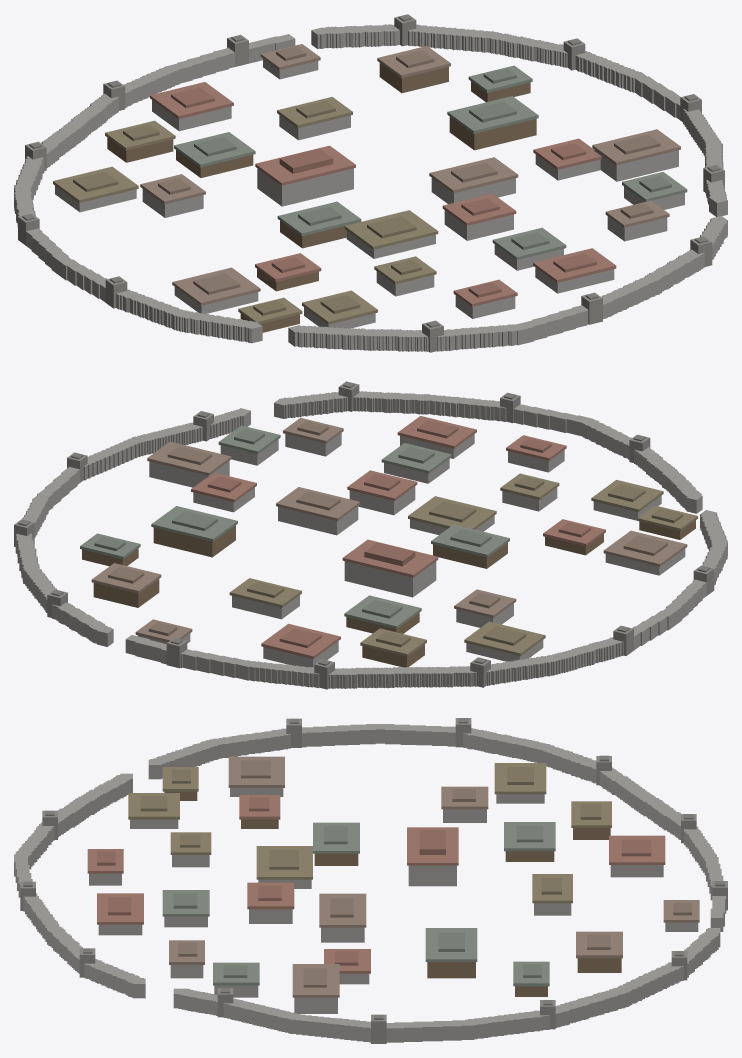
The model's file is ciudad_capital_regional_1409_1614_01.glb.
3 views of the same model, one above another, from view 1: azimuth 30°, elevation 25°; view 2: azimuth 150°, elevation 25°; view 3: azimuth 270°, elevation 25° (orthographic). The views are drawn at different scales.
Visible parts, largest first — view 1: ciudad_capital_regional_1409_1614; view 2: ciudad_capital_regional_1409_1614; view 3: ciudad_capital_regional_1409_1614.
Part boxes in pixels (x1,y1,x2,y2): ciudad_capital_regional_1409_1614: (14,14,727,352); ciudad_capital_regional_1409_1614: (14,381,727,689); ciudad_capital_regional_1409_1614: (14,718,727,1043).
Bounding box in the file's own units: 116 × 5.25 × 114.
